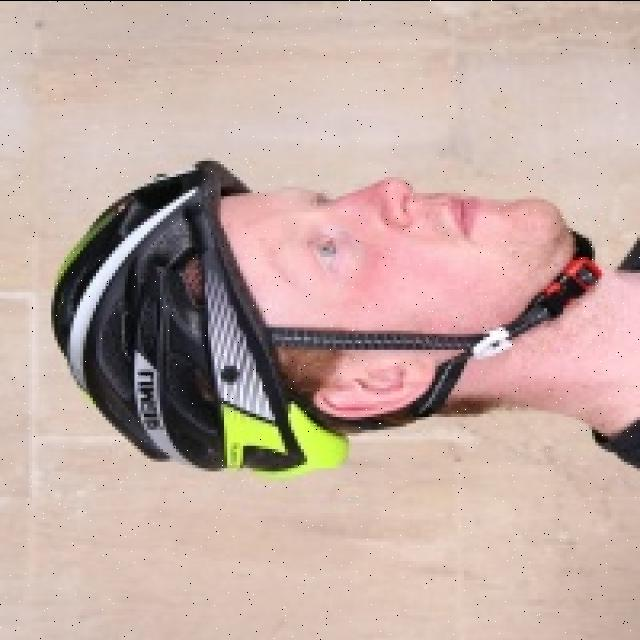Helmet: (51, 160, 346, 475)
